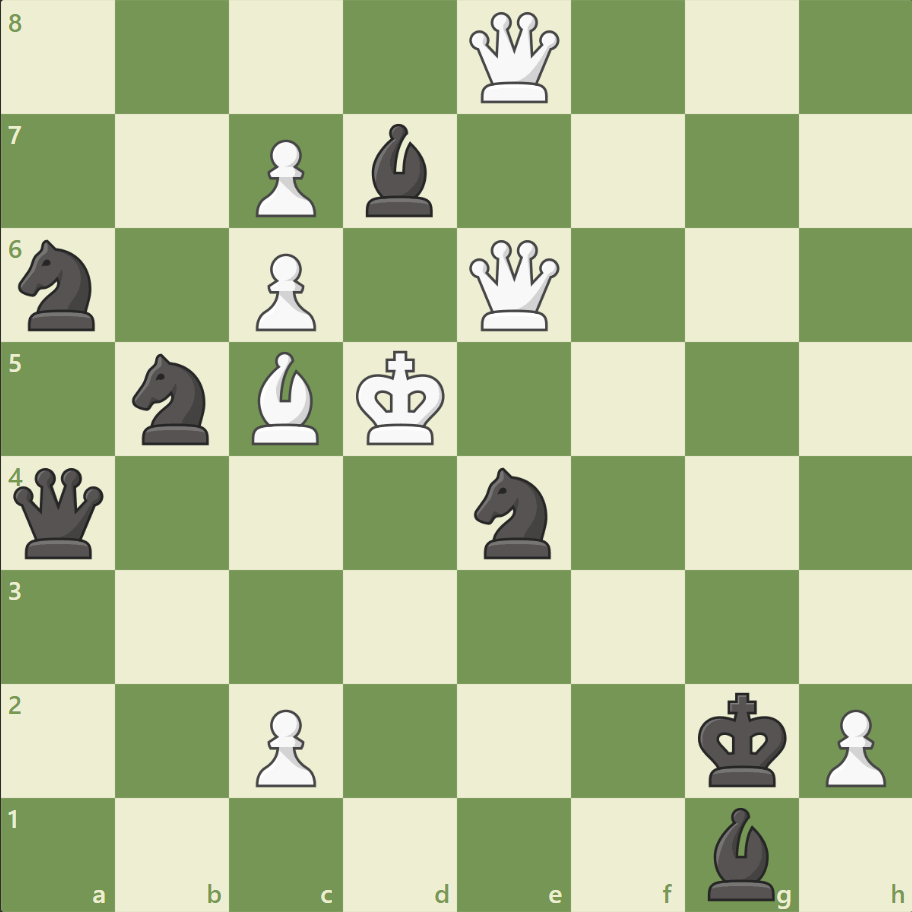B: (244, 347, 328, 449)
K: (351, 344, 451, 452)
P: (247, 132, 322, 223), (247, 246, 322, 337), (247, 700, 322, 791), (815, 700, 889, 791)
Q: (464, 9, 563, 108), (464, 236, 563, 335)
b: (698, 801, 782, 904), (358, 120, 442, 222)
k: (692, 685, 792, 793)
n: (124, 348, 222, 450), (11, 234, 108, 337), (465, 461, 562, 564)
q: (10, 463, 109, 562)
